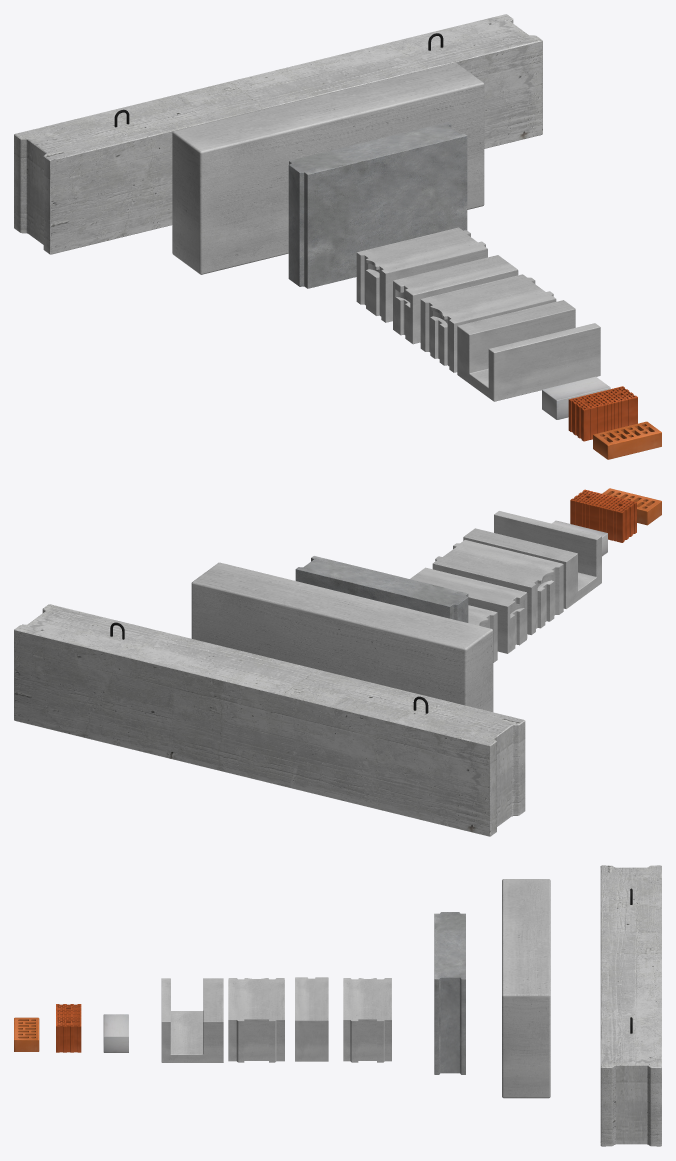
The model's file is construction blocks.obj.
The picture shows the model from 3 angles, top to bottom: view 1: azimuth 30°, elevation 25°; view 2: azimuth 150°, elevation 25°; view 3: azimuth 270°, elevation 25°; orthographic projection. The views are drawn at different scales.
Visible parts, largest first — view 1: concrete_block, foam_concrete_block, foam_concrete_block_2, gas_concrete_4, gas_concrete_1, gas_concrete_3, gas_concrete_2, red_concrete_block, red_brick, silikaty_brick; view 2: concrete_block, foam_concrete_block, gas_concrete_4, gas_concrete_3, foam_concrete_block_2, gas_concrete_2, red_concrete_block, red_brick, gas_concrete_1; view 3: concrete_block, foam_concrete_block, foam_concrete_block_2, gas_concrete_3, gas_concrete_4, gas_concrete_1, gas_concrete_2, red_concrete_block, silikaty_brick, red_brick.
Boxes of the visible parts, bbox=[...] form: concrete_block: bbox=[14, 14, 542, 254]; foam_concrete_block: bbox=[172, 62, 484, 274]; foam_concrete_block_2: bbox=[288, 122, 467, 288]; gas_concrete_4: bbox=[457, 300, 600, 401]; gas_concrete_1: bbox=[356, 227, 487, 322]; gas_concrete_3: bbox=[420, 274, 556, 372]; gas_concrete_2: bbox=[393, 255, 518, 344]; red_concrete_block: bbox=[568, 386, 637, 441]; red_brick: bbox=[593, 421, 661, 459]; silikaty_brick: bbox=[542, 376, 610, 419]; concrete_block: bbox=[14, 604, 525, 836]; foam_concrete_block: bbox=[191, 562, 493, 712]; gas_concrete_4: bbox=[463, 511, 601, 608]; gas_concrete_3: bbox=[432, 540, 563, 634]; foam_concrete_block_2: bbox=[295, 556, 468, 622]; gas_concrete_2: bbox=[410, 567, 527, 653]; red_concrete_block: bbox=[570, 489, 636, 542]; red_brick: bbox=[602, 488, 661, 525]; gas_concrete_1: bbox=[468, 605, 497, 662]; concrete_block: bbox=[600, 865, 661, 1146]; foam_concrete_block: bbox=[502, 879, 550, 1098]; foam_concrete_block_2: bbox=[434, 912, 465, 1074]; gas_concrete_3: bbox=[228, 978, 284, 1062]; gas_concrete_4: bbox=[161, 978, 223, 1062]; gas_concrete_1: bbox=[343, 978, 391, 1062]; gas_concrete_2: bbox=[295, 977, 328, 1061]; red_concrete_block: bbox=[56, 1004, 81, 1052]; silikaty_brick: bbox=[103, 1014, 128, 1052]; red_brick: bbox=[14, 1017, 39, 1051].
Size of the model in its own units: 2277 by 546 by 3085.
7 materials, 6 textured.
